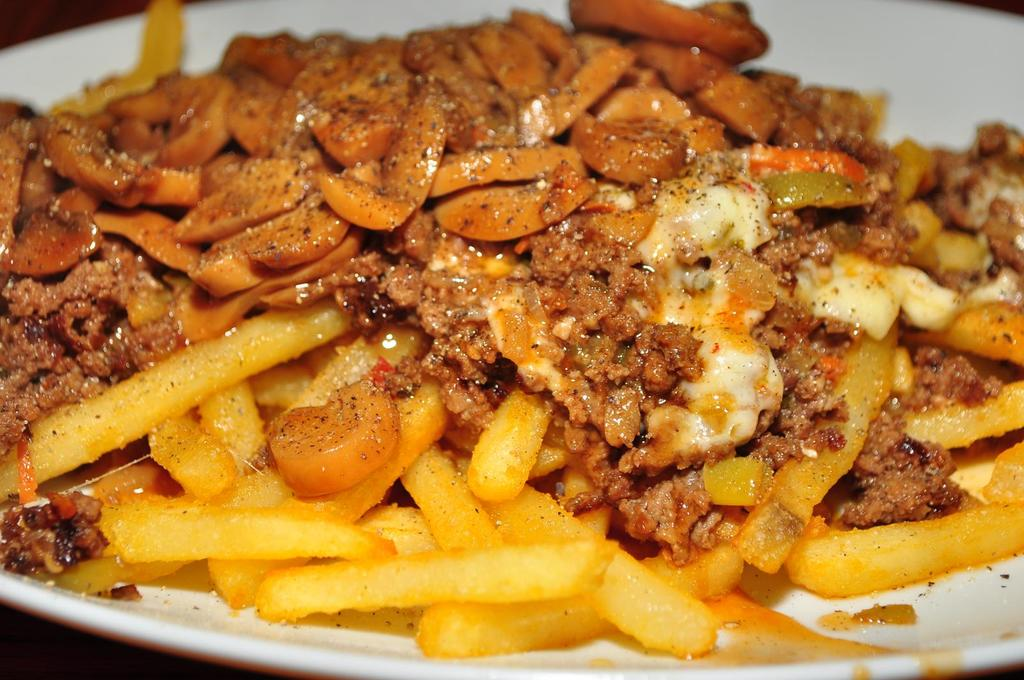French fries: (63, 340, 700, 663)
